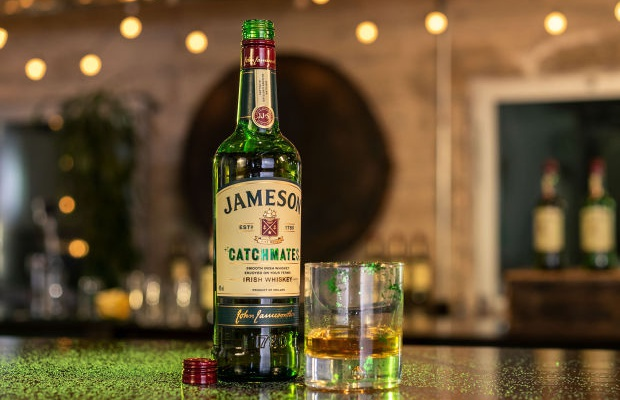Jameson: (206, 9, 306, 392)
